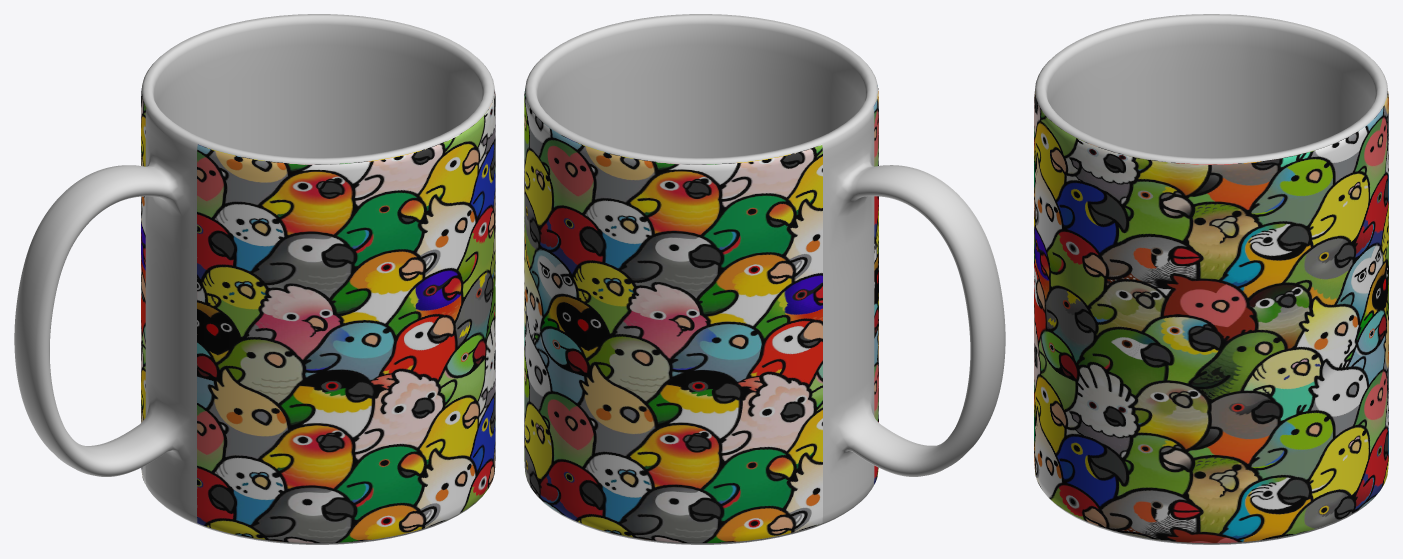
3 renders of one model, left to right at view 1: azimuth 30°, elevation 25°; view 2: azimuth 150°, elevation 25°; view 3: azimuth 270°, elevation 25°, orthographic.
Parts seen in each view (by area): view 1: Mug; view 2: Mug; view 3: Mug.
Part boxes in pixels (x1,y1,x2,y2): Mug: (14, 14, 495, 544); Mug: (524, 14, 1005, 544); Mug: (1034, 14, 1388, 544).
Size of what is drawn, in the model's own units: 11.66 by 9.5 by 7.96.
2 materials, 1 textured.
